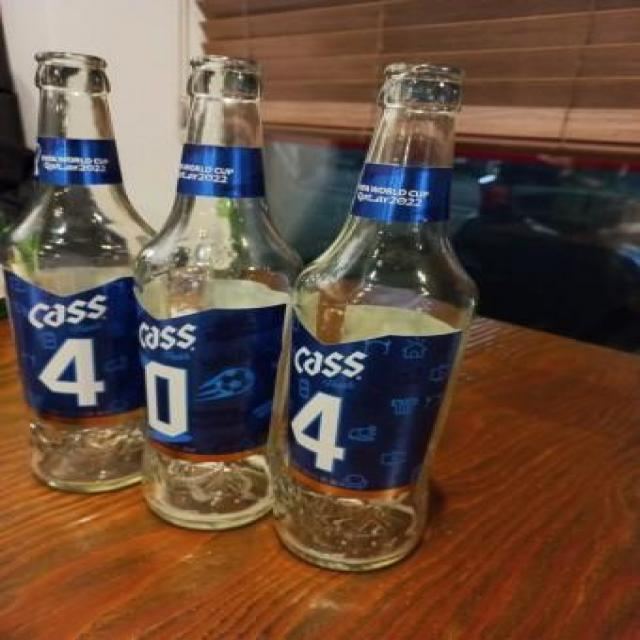beer-bottle: (300, 67, 494, 574), (0, 30, 164, 501), (146, 50, 287, 528)
